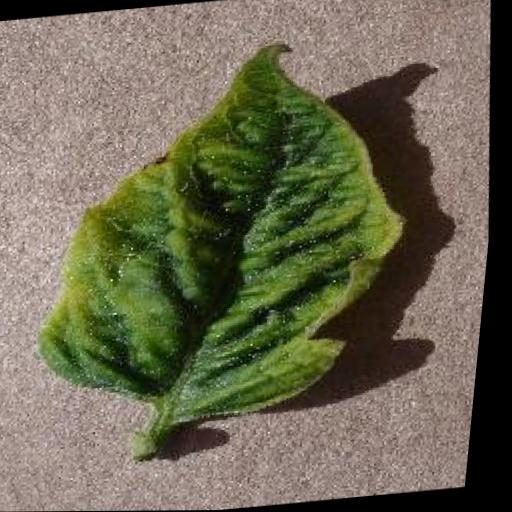Yellow Leaf Curl Virus: (14, 32, 438, 438)
